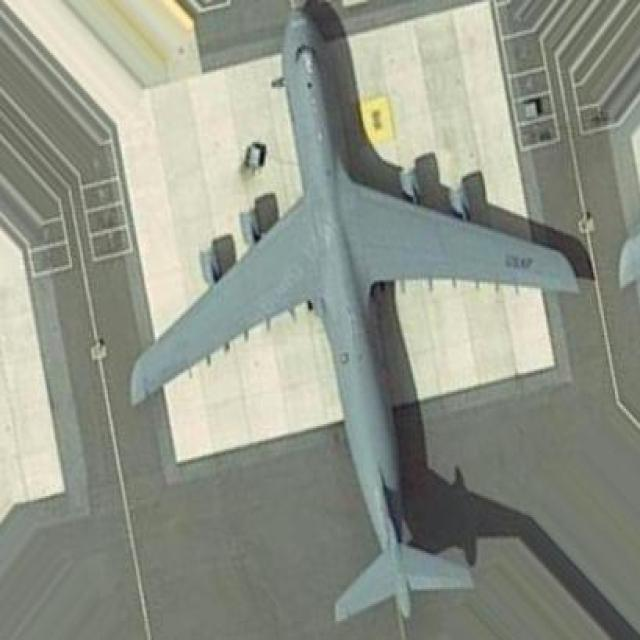C-5_TopDown: (132, 0, 598, 620)
